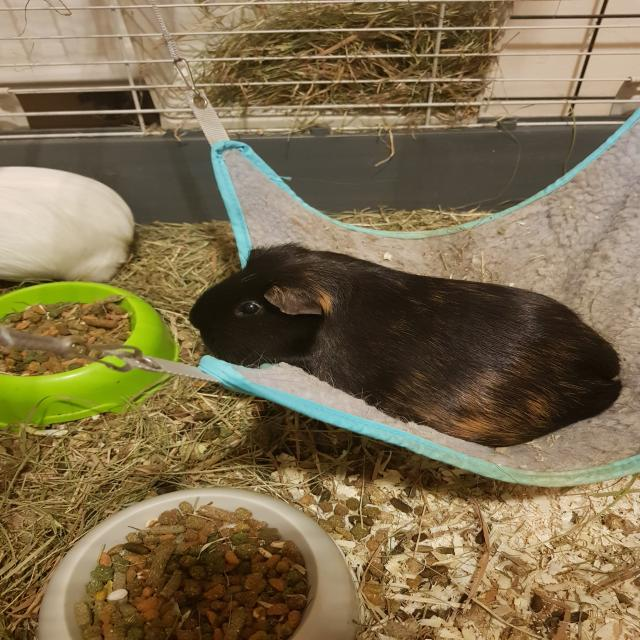guinea pig: (186, 238, 624, 451), (1, 163, 137, 285)
